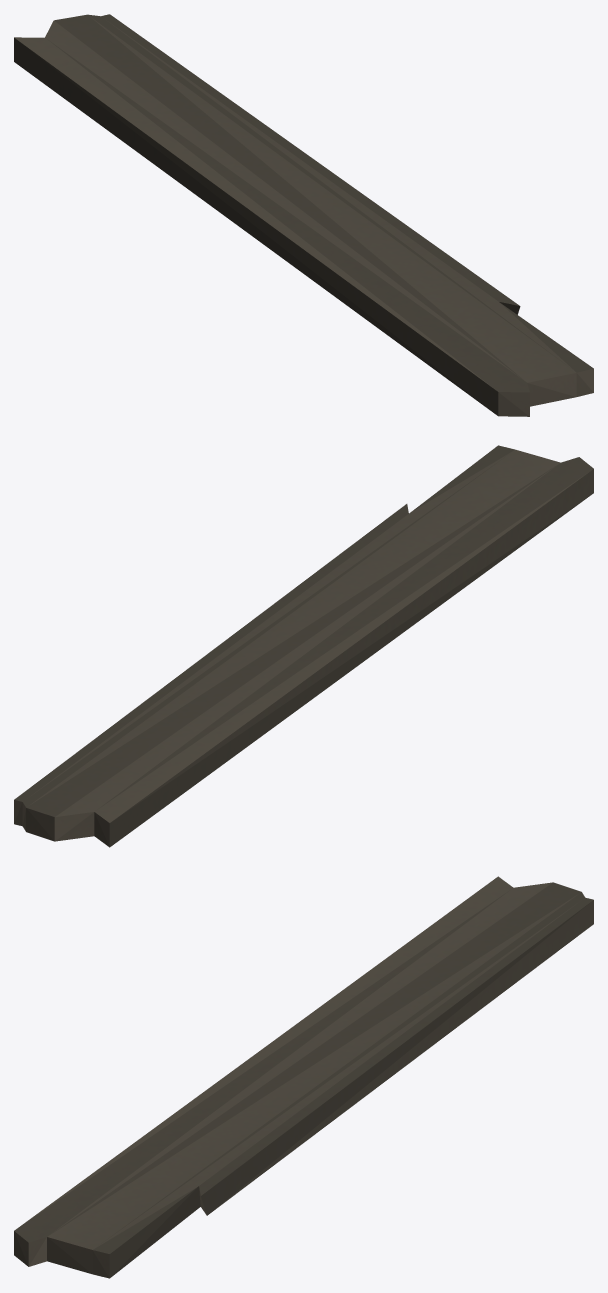
The model's file is Wood_1D.fbx.
The picture shows the model from 3 angles, top to bottom: view 1: azimuth 30°, elevation 25°; view 2: azimuth 150°, elevation 25°; view 3: azimuth 330°, elevation 25°; orthographic projection.
Visible parts, largest first — view 1: pCube993; view 2: pCube993; view 3: pCube993.
Boxes of the visible parts, bbox=[...] form: pCube993: bbox=[14, 14, 593, 416]; pCube993: bbox=[14, 445, 593, 847]; pCube993: bbox=[14, 876, 593, 1278].
Bounding box in the file's own units: 0.4487 × 0.1 × 3.72.
